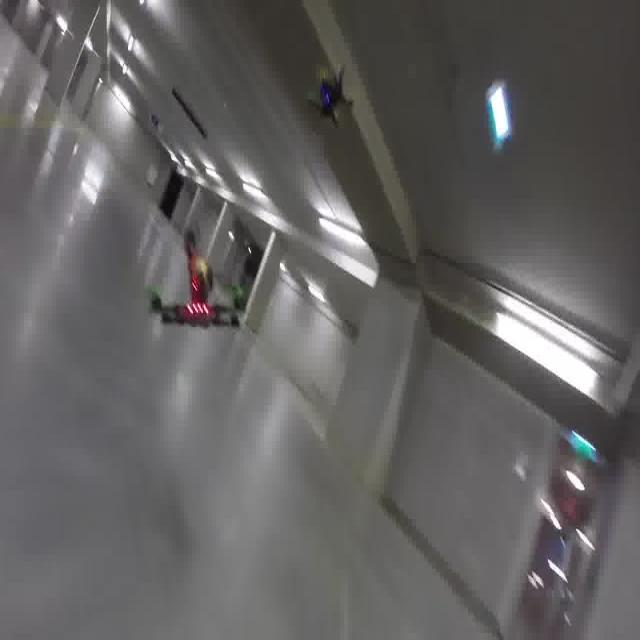drone: (147, 225, 250, 333), (308, 58, 354, 130)
